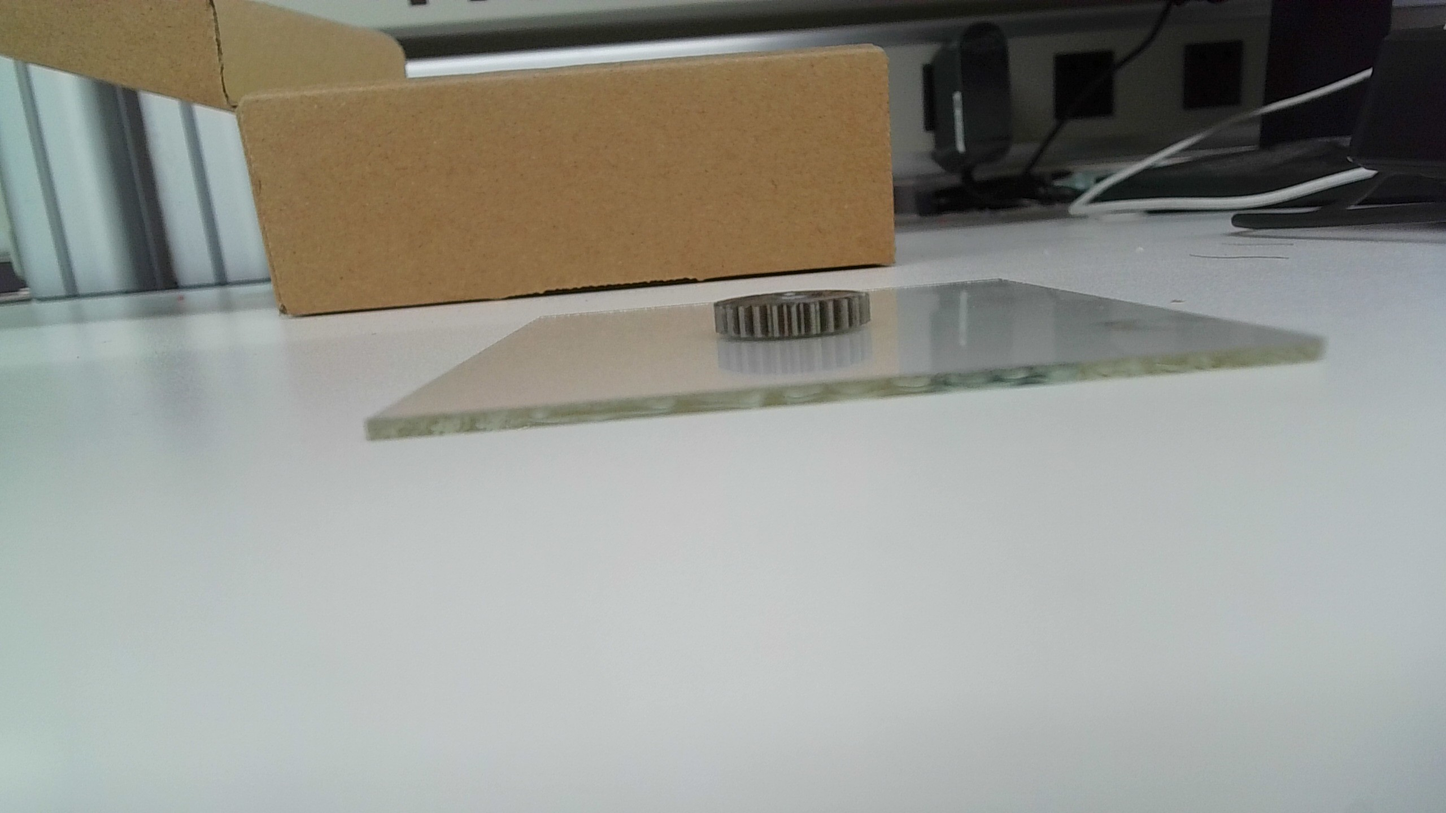gear: (712, 287, 876, 342)
